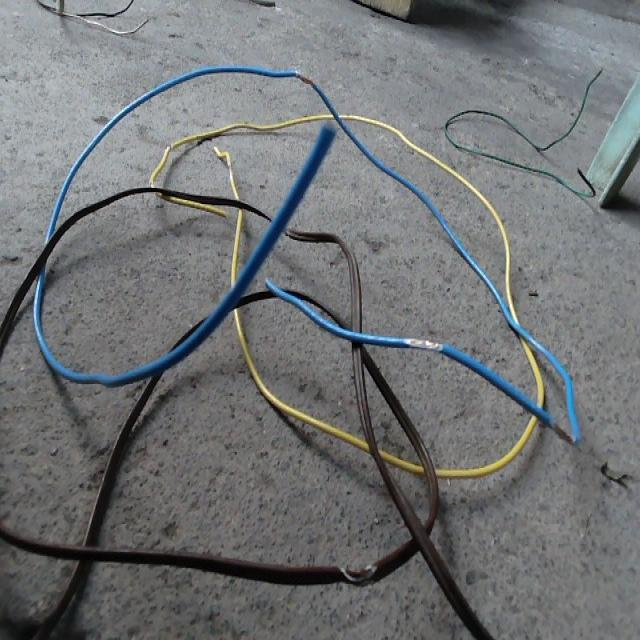-: (340, 565, 377, 584), (403, 334, 442, 350), (552, 418, 575, 442), (296, 72, 313, 84)
